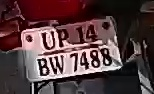1: (74, 26, 86, 46)
4: (85, 24, 101, 43), (78, 51, 91, 71)
7: (69, 52, 79, 73)
8: (99, 47, 114, 68), (88, 48, 101, 70)
B: (36, 57, 51, 78)
P: (56, 29, 70, 48)
U: (40, 31, 57, 50)
W: (48, 56, 67, 75)
